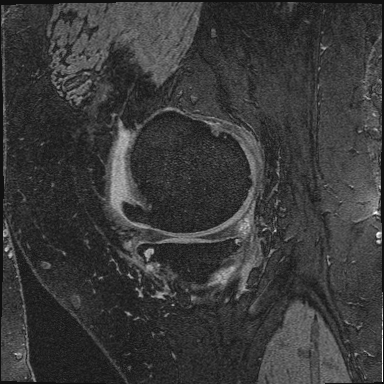effusion: (115, 136, 133, 205)
